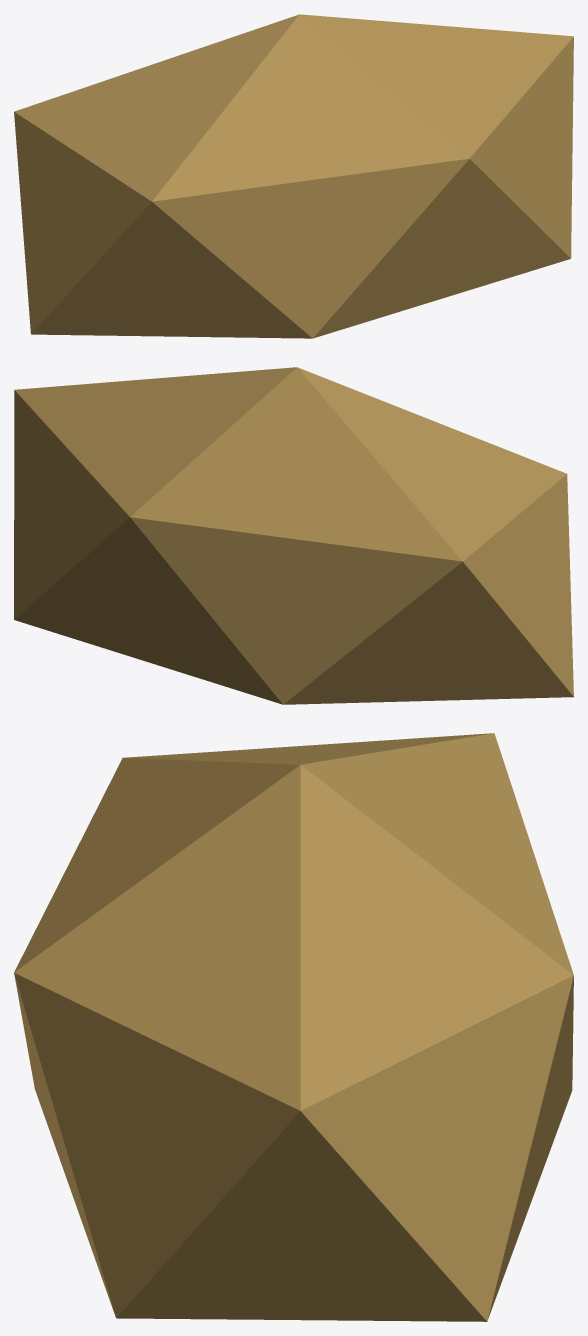
File: w3d_item_emmer_seed_s.glb
3 renders of one model, top to bottom at view 1: azimuth 30°, elevation 25°; view 2: azimuth 150°, elevation 25°; view 3: azimuth 270°, elevation 25°, orthographic. The views are drawn at different scales.
Parts seen in each view (by area): view 1: item_031_emmer_seed_s; view 2: item_031_emmer_seed_s; view 3: item_031_emmer_seed_s.
Boxes of the visible parts, bbox=[...] form: item_031_emmer_seed_s: bbox=[14, 14, 573, 338]; item_031_emmer_seed_s: bbox=[14, 367, 573, 704]; item_031_emmer_seed_s: bbox=[14, 733, 573, 1321].
Size of the model in its own units: 0.3549 by 0.1979 by 0.204.
